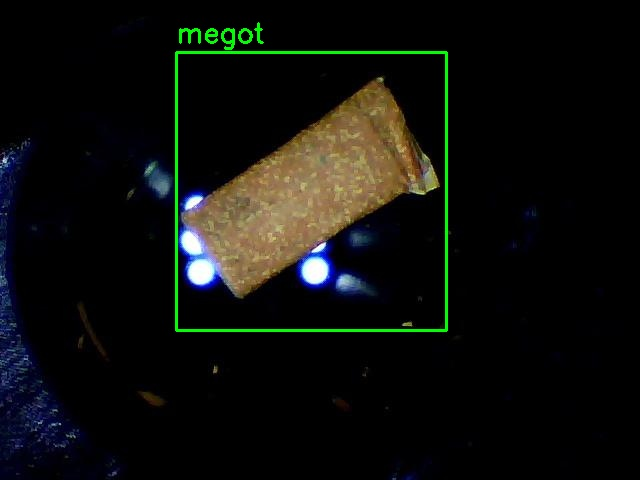megot: (176, 52, 446, 330)
